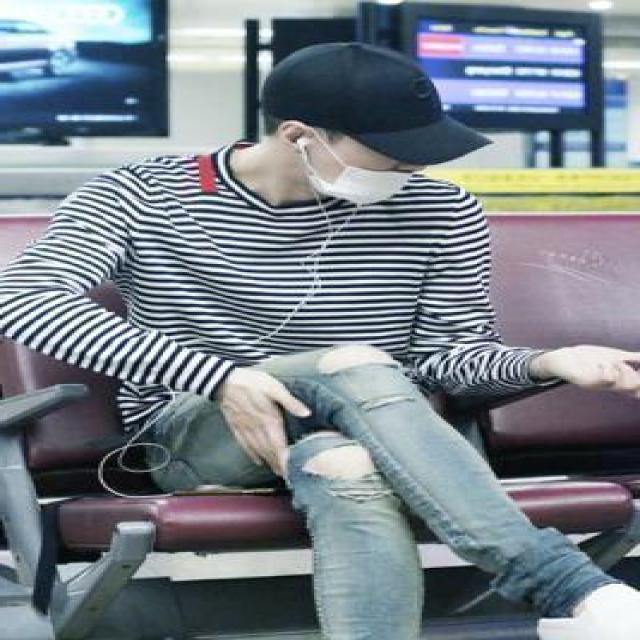face_mask: (312, 133, 426, 208)
hand_noglove: (216, 364, 319, 478), (527, 342, 638, 408)
head_nohelmet: (302, 60, 477, 166)
person: (17, 61, 594, 640)
